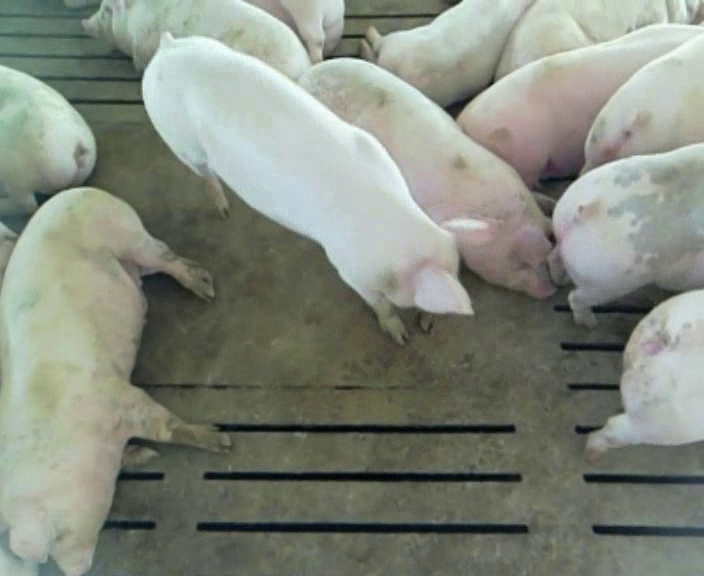pig: (143, 34, 502, 343), (0, 188, 229, 574), (547, 143, 703, 325), (585, 290, 703, 459), (83, 2, 310, 79), (361, 2, 529, 106), (581, 34, 703, 173), (494, 1, 701, 80), (252, 1, 344, 62)
